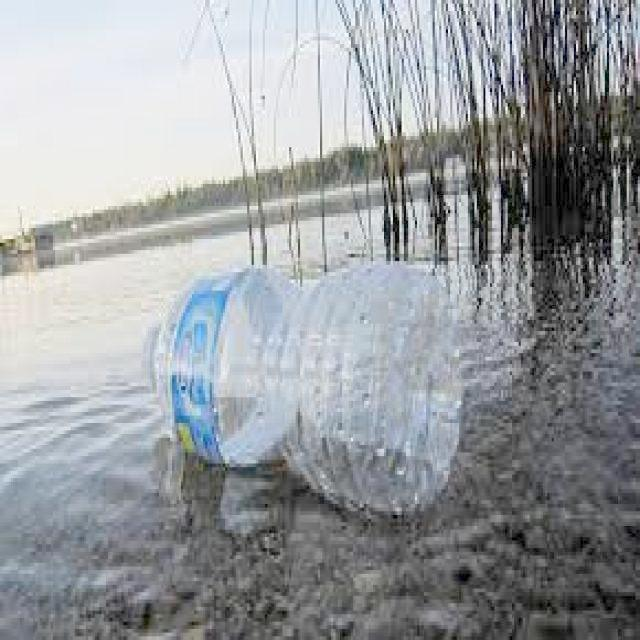bottle: (142, 264, 463, 519)
